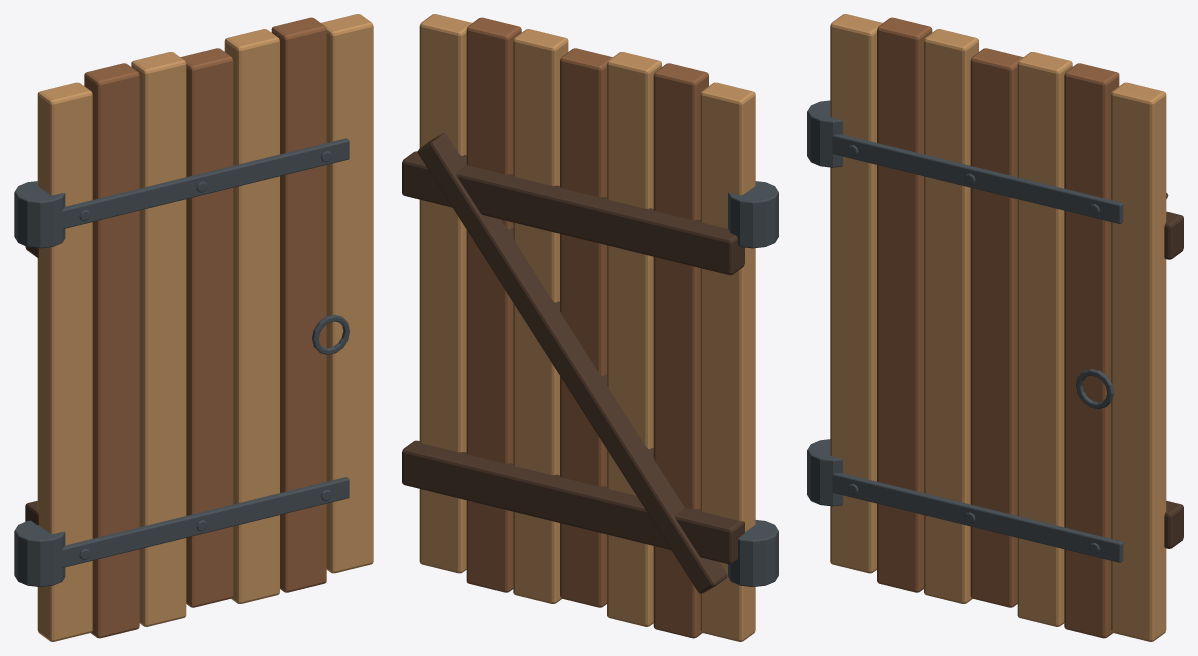
Rendered from gate_leaf.glb.
The picture shows the model from 3 angles, left to right: view 1: azimuth 30°, elevation 25°; view 2: azimuth 150°, elevation 25°; view 3: azimuth 330°, elevation 25°; orthographic projection.
Parts seen in each view (by area): view 1: gate_leaf__structure, gate_leaf__finish; view 2: gate_leaf__structure, gate_leaf__finish; view 3: gate_leaf__structure, gate_leaf__finish.
Part boxes in pixels (left/top/right/bottom): gate_leaf__structure: left=25, top=14, right=373, bottom=641; gate_leaf__finish: left=14, top=138, right=349, bottom=586; gate_leaf__structure: left=402, top=14, right=755, bottom=641; gate_leaf__finish: left=728, top=181, right=778, bottom=586; gate_leaf__structure: left=830, top=14, right=1183, bottom=641; gate_leaf__finish: left=807, top=100, right=1123, bottom=562.
Bounding box in the file's own units: 1.43 × 2.14 × 0.254.
